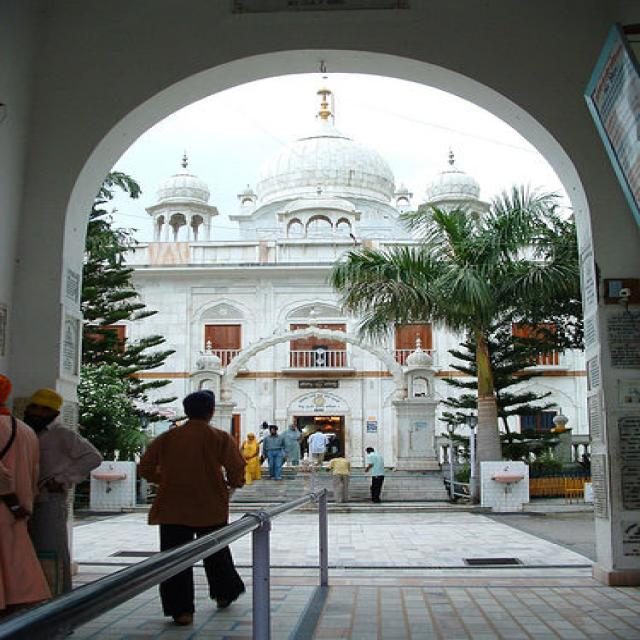person: (138, 392, 247, 630), (25, 389, 103, 601), (1, 373, 56, 618), (264, 425, 291, 484), (361, 448, 389, 504), (305, 426, 335, 471), (240, 434, 265, 486), (329, 455, 351, 504)
